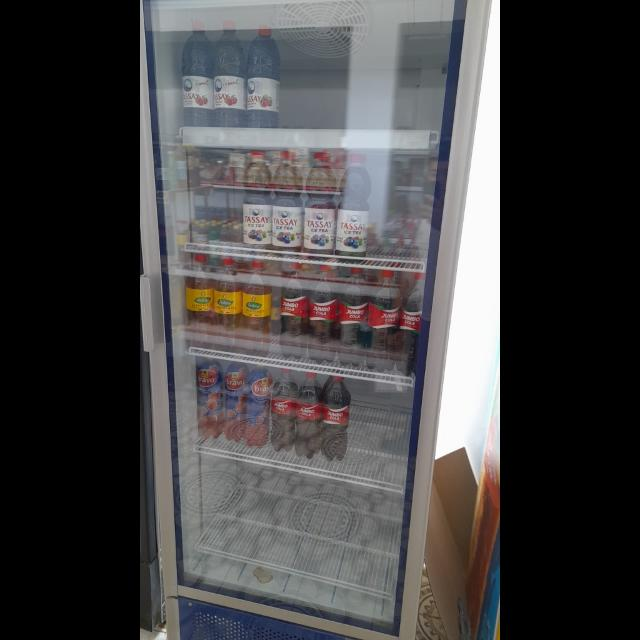Cooling-Display: (140, 1, 492, 640)
